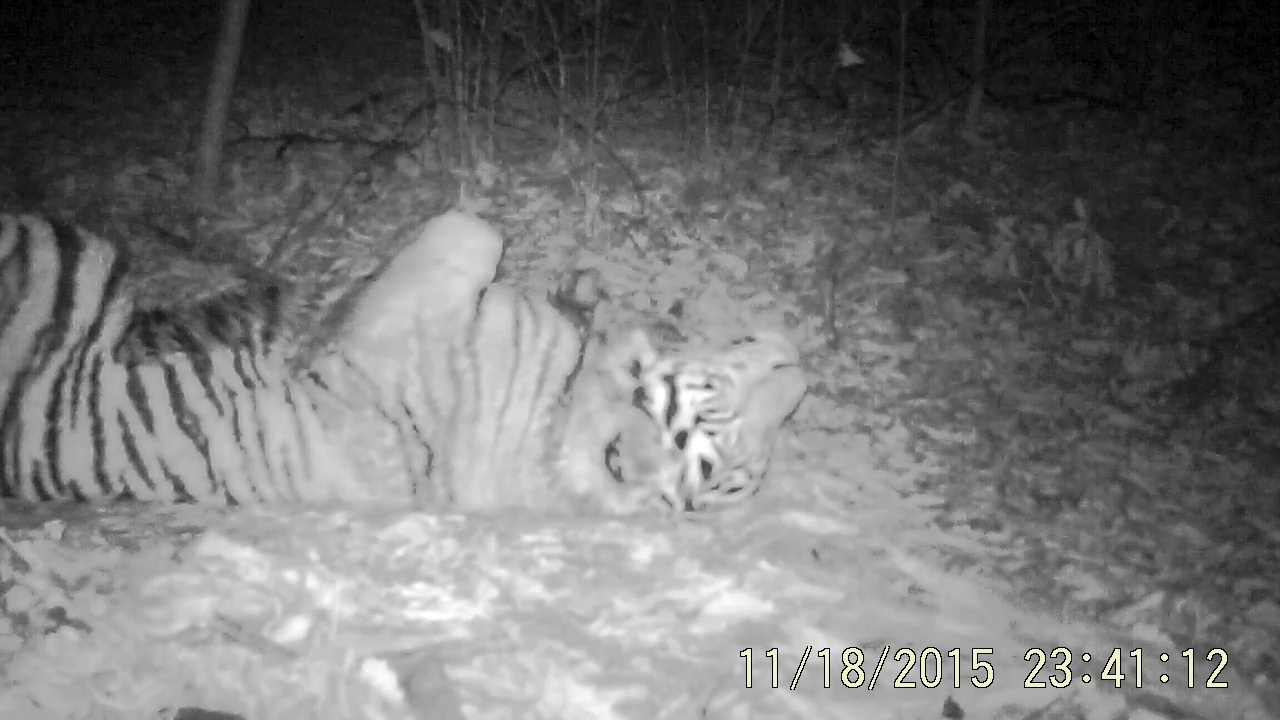Tiger: (5, 100, 882, 609)
